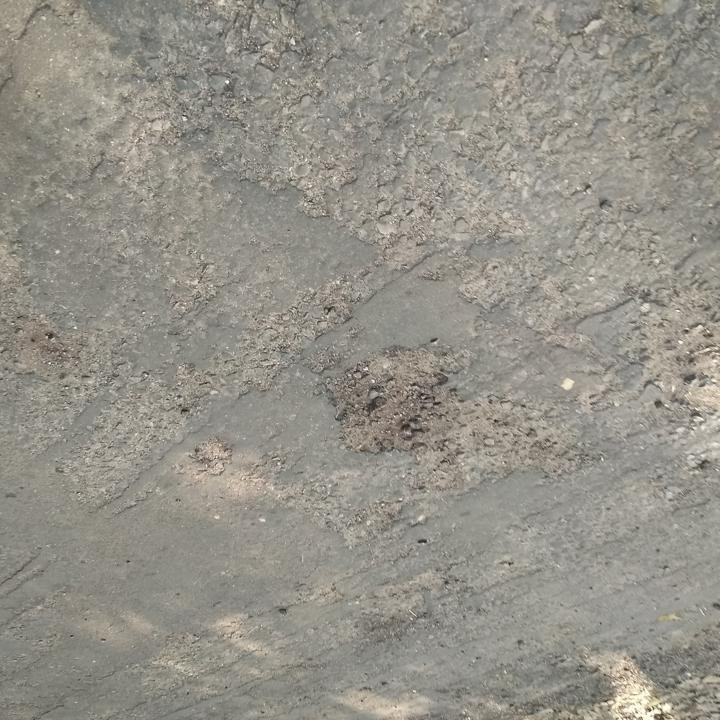pothole: (316, 347, 449, 461)
